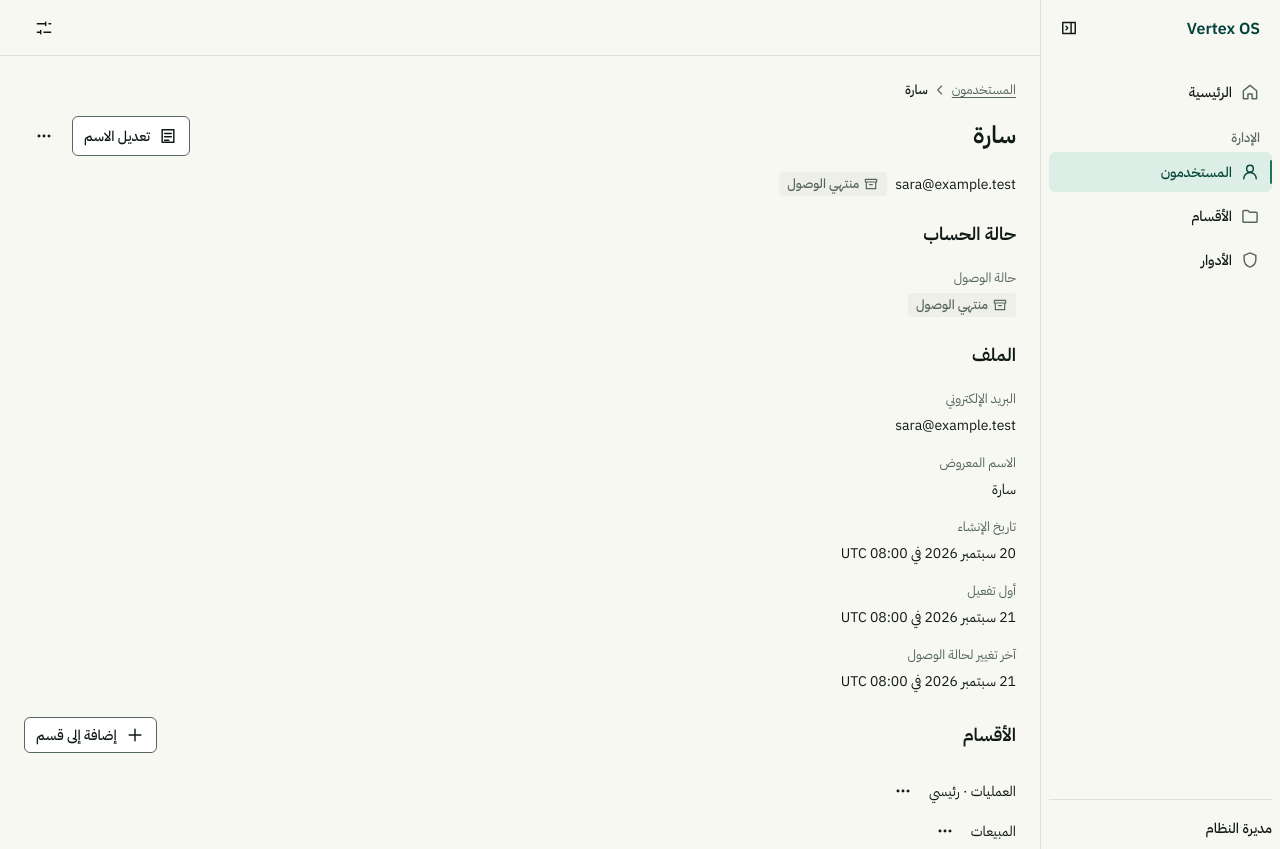
Test: the user detail › offers only session revocation for a TERMINATED user
Step 1. Click the button named "إجراءات المستخدم" → coordinates (44, 136), box [24,116,64,156]
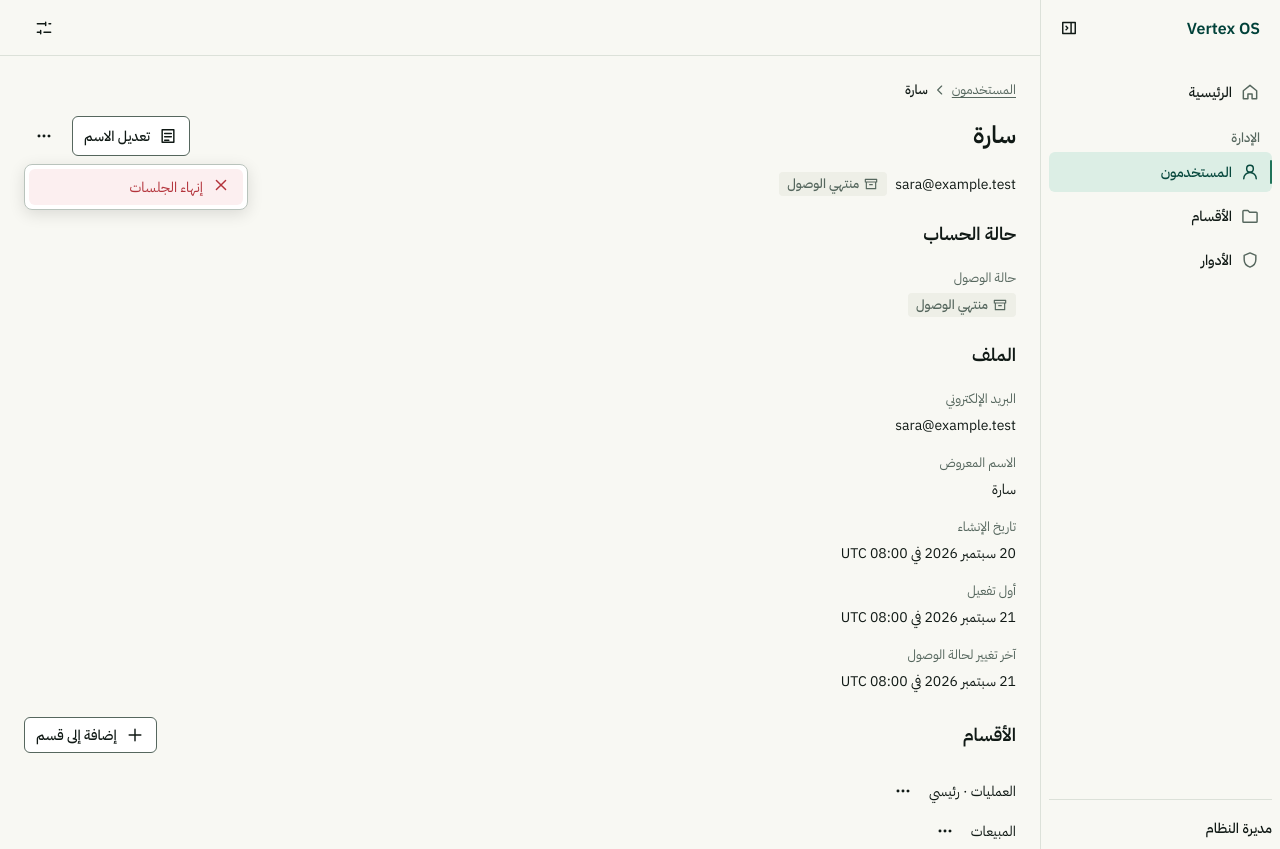
Expected: the menu items read "إنهاء الجلسات", in this order, [29,169,243,205]
